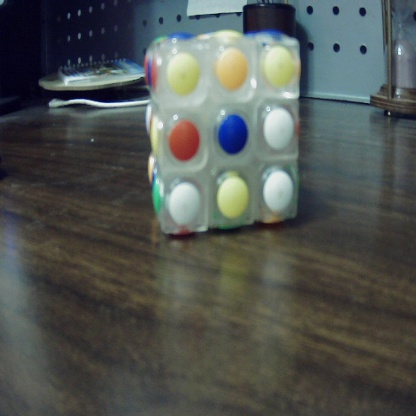Rubix Cube: (144, 37, 302, 228)
